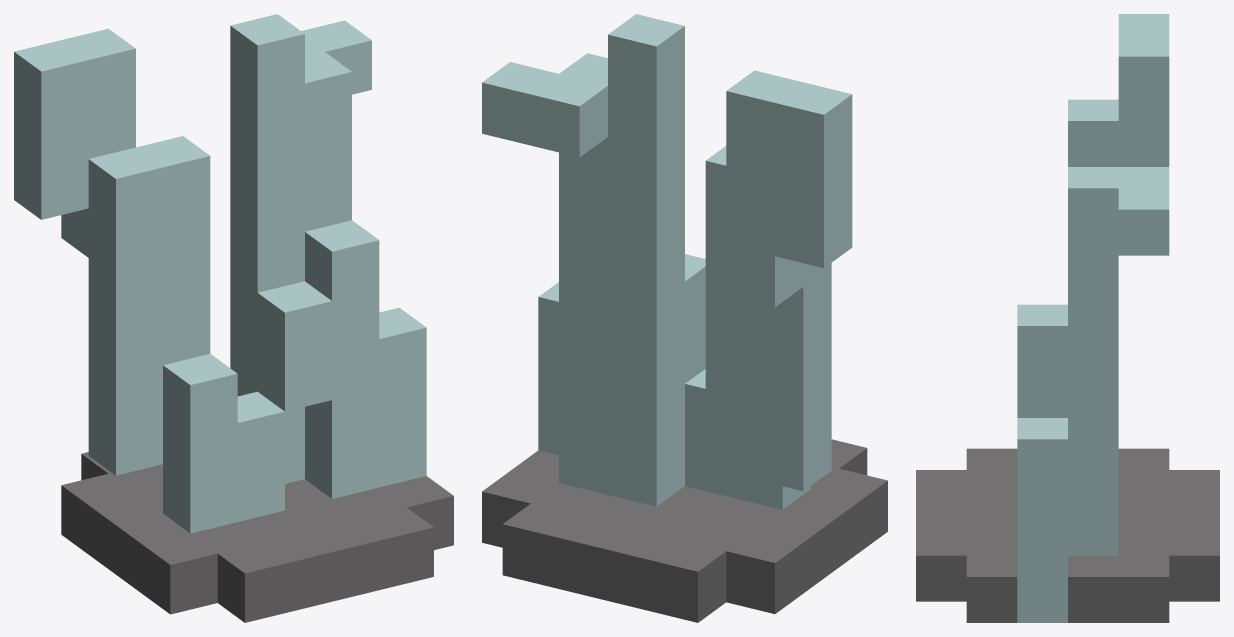
Rendered from mat_frost_crystal_lod1.glb.
3 views of the same model, side by side, from view 1: azimuth 30°, elevation 25°; view 2: azimuth 150°, elevation 25°; view 3: azimuth 270°, elevation 25° (orthographic). The views are drawn at different scales.
Parts seen in each view (by area): view 1: mat_frost_crystal_lod1; view 2: mat_frost_crystal_lod1; view 3: mat_frost_crystal_lod1.
Boxes of the visible parts, box(x1,y1,x2,y2) form: mat_frost_crystal_lod1: box(14, 14, 453, 622); mat_frost_crystal_lod1: box(482, 14, 887, 622); mat_frost_crystal_lod1: box(916, 14, 1219, 622).
Size of the model in its own units: 0.168 by 0.24 by 0.144.
